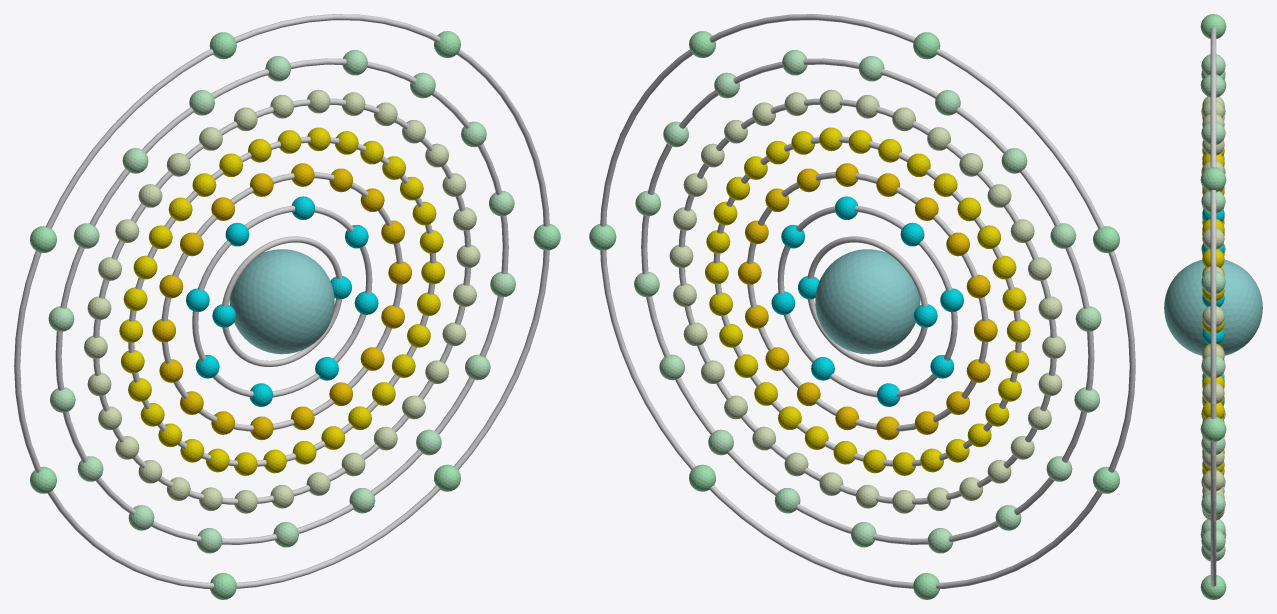
3 views of the same model, side by side, from view 1: azimuth 30°, elevation 25°; view 2: azimuth 150°, elevation 25°; view 3: azimuth 270°, elevation 25° (orthographic). The views are drawn at different scales.
Visible parts, largest first — view 1: world; view 2: world; view 3: world.
Part boxes in pixels (x1,y1,x2,y2): world: [14, 14, 560, 599]; world: [589, 14, 1135, 599]; world: [1164, 14, 1262, 599].
Bounding box in the file's own units: 2.63 × 2.61 × 0.44.
